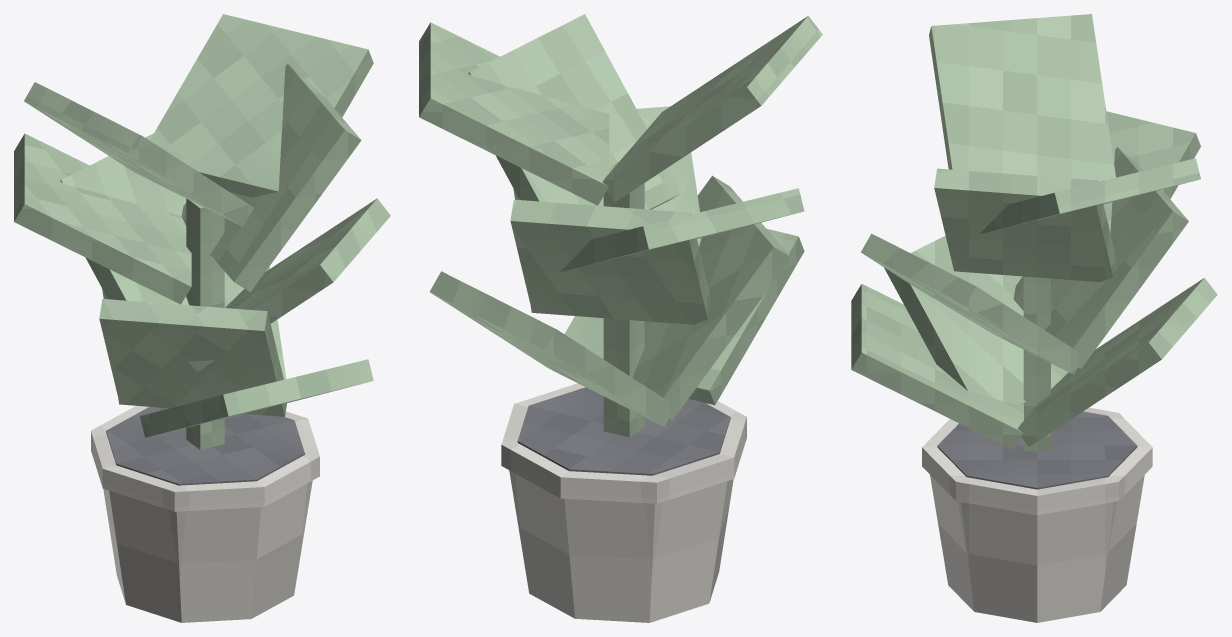
The model's file is pixel-modern-apartments-monstera-6c14b168__29859.glb.
3 views of the same model, side by side, from view 1: azimuth 30°, elevation 25°; view 2: azimuth 150°, elevation 25°; view 3: azimuth 270°, elevation 25° (orthographic). The views are drawn at different scales.
Parts seen in each view (by area): view 1: monstera; view 2: monstera; view 3: monstera.
Boxes of the visible parts, bbox=[...] form: monstera: bbox=[14, 14, 390, 622]; monstera: bbox=[419, 14, 822, 622]; monstera: bbox=[851, 14, 1217, 622].
Bounding box in the file's own units: 0.7428 × 1.02 × 0.6739.
3 materials, 3 textured.
